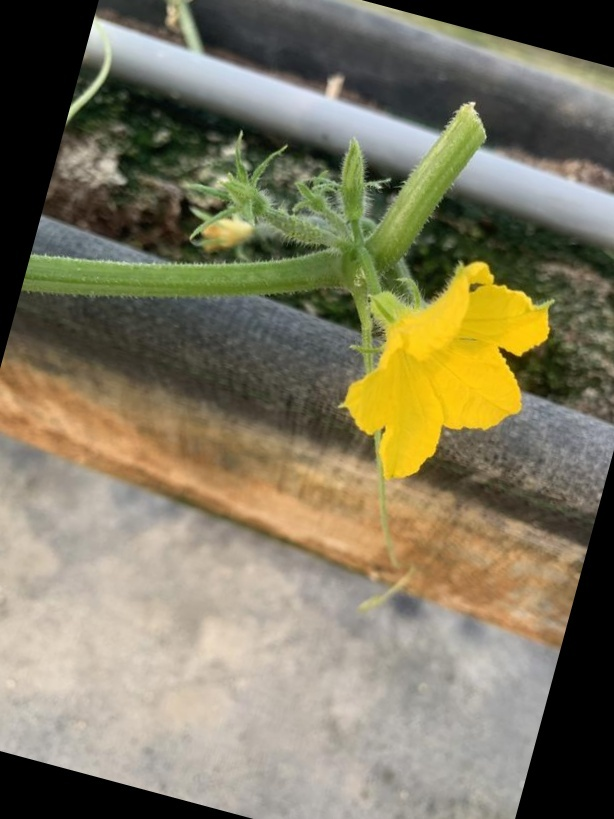flowering: (320, 254, 565, 483)
